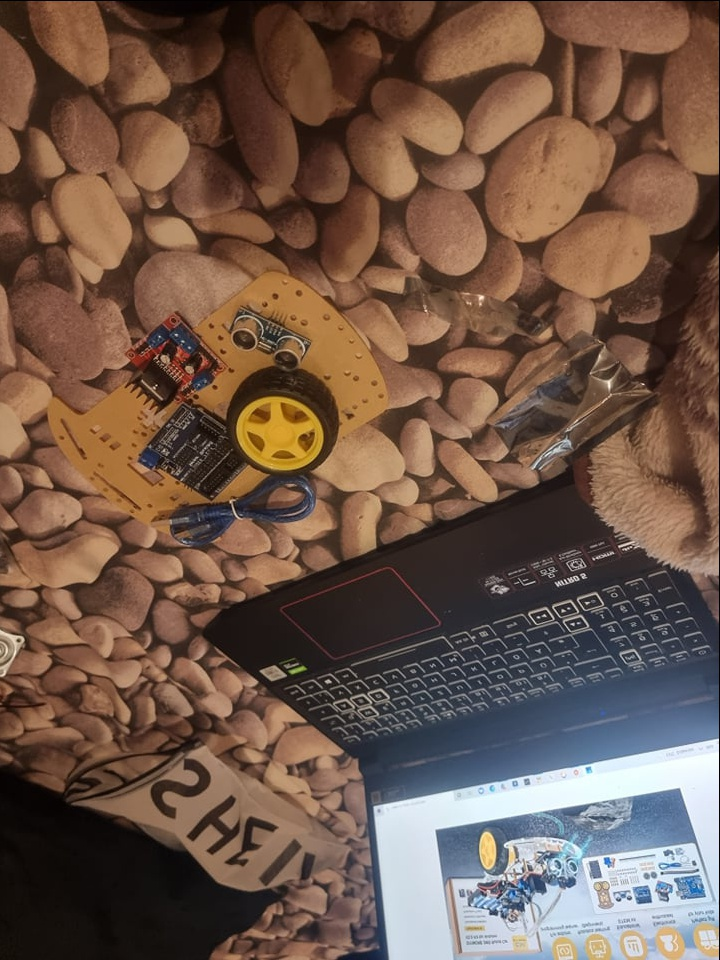5V EXPANSION: (141, 402, 247, 503)
MOTOR: (122, 307, 225, 414)
SENSOR: (224, 309, 312, 368), (544, 853, 583, 876), (617, 888, 637, 903)
UNO R3: (677, 872, 705, 902)
